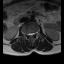CCS_normal: (30, 31, 32, 39)
LFS_normal: (34, 30, 36, 36)
LLS_stenosis: (32, 31, 34, 36)
RFS_normal: (26, 32, 28, 37)
RLS_normal: (28, 31, 30, 37)
